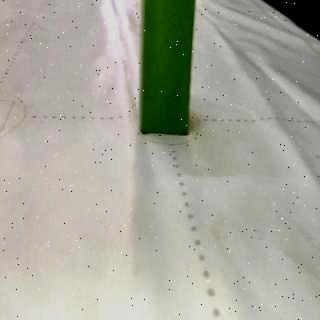greenbox: (139, 1, 195, 135)
